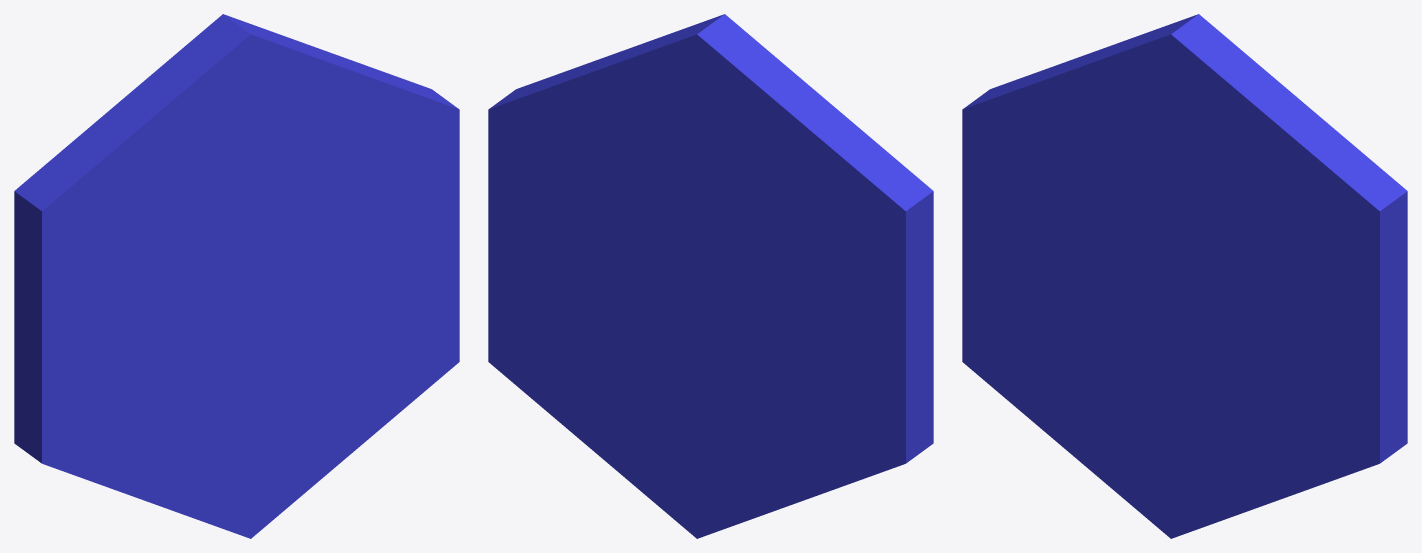
Rendered from water-hex.glb.
3 renders of one model, left to right at view 1: azimuth 30°, elevation 25°; view 2: azimuth 150°, elevation 25°; view 3: azimuth 330°, elevation 25°, orthographic.
Parts seen in each view (by area): view 1: Circle; view 2: Circle; view 3: Circle.
Part boxes in pixels (x1=…): Circle: x1=14, y1=14, x2=459, y2=538; Circle: x1=488, y1=14, x2=933, y2=538; Circle: x1=962, y1=14, x2=1407, y2=538.
Size of the model in its own units: 1.73 by 2 by 0.2.
